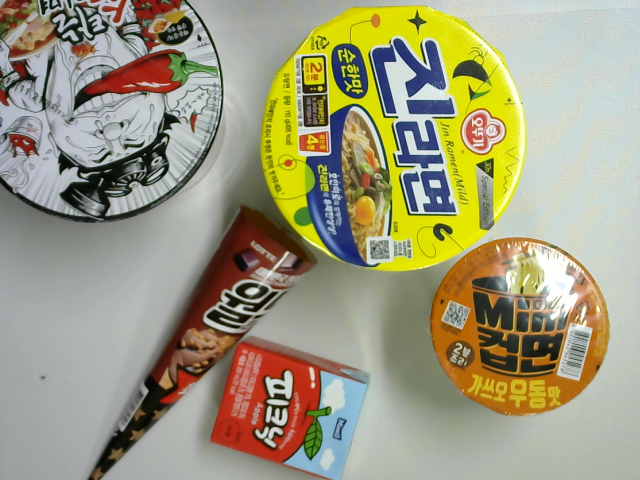HeJangsock: (1, 1, 236, 232)
Jinlamyeon_Mild_Taste_Large_Cup: (254, 6, 534, 274)
Picnic_Apple: (208, 333, 378, 480)
Udongmini: (425, 233, 612, 419)
World_Cone_Choco: (82, 205, 318, 480)
